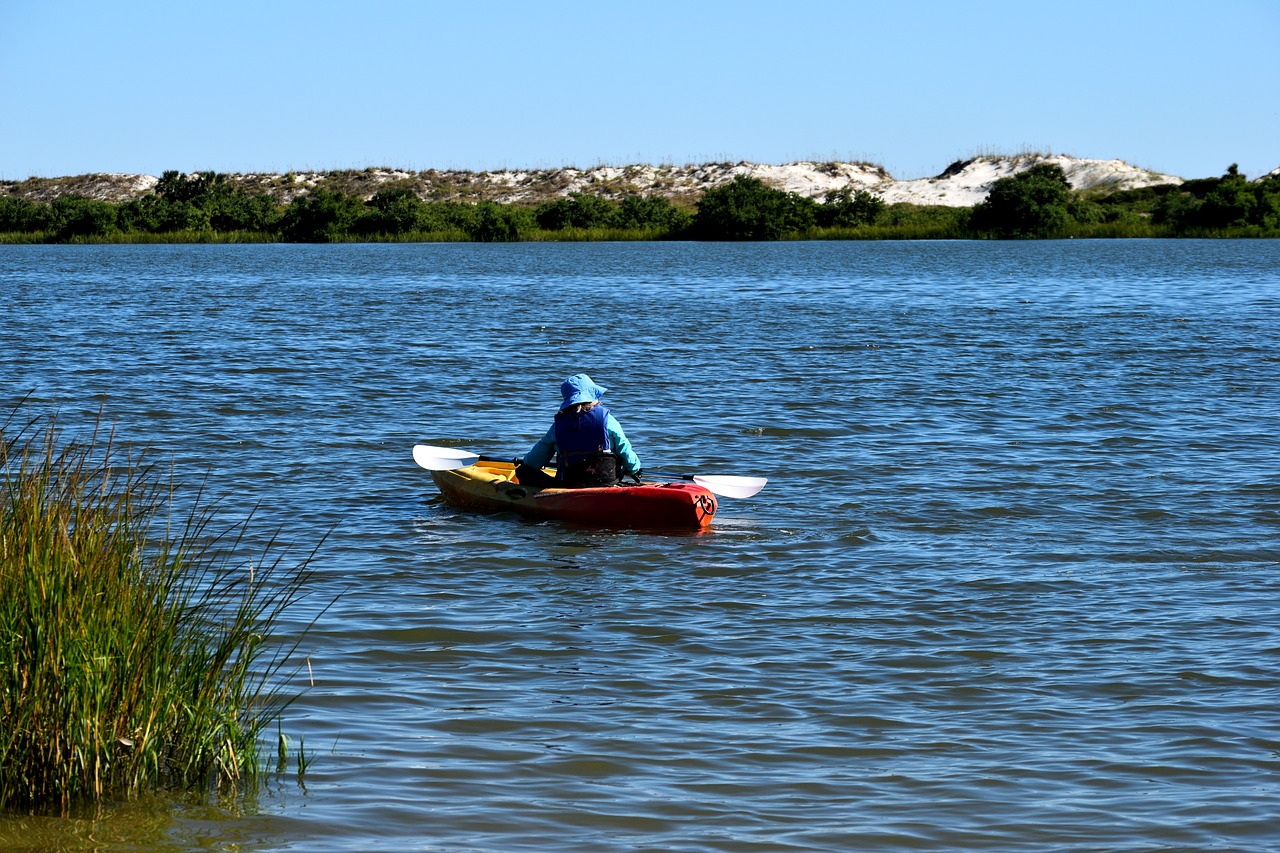kayak: (405, 441, 726, 541)
